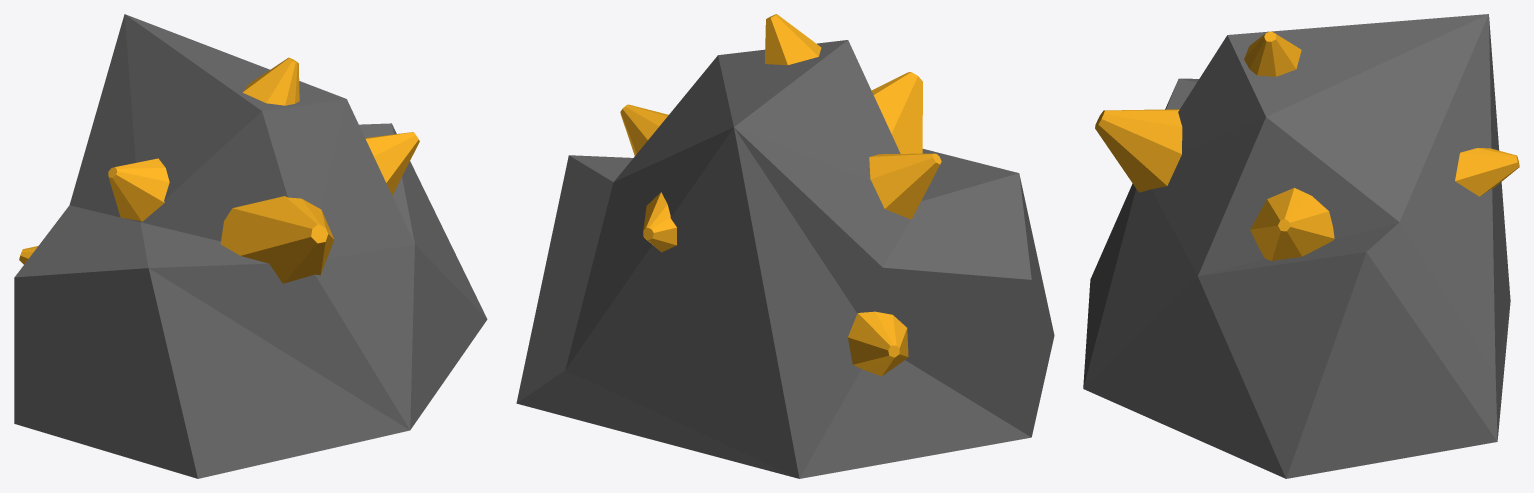
Rendered from Prop_Ore_Node_Yellow_03.fbx.
3 views of the same model, side by side, from view 1: azimuth 30°, elevation 25°; view 2: azimuth 150°, elevation 25°; view 3: azimuth 270°, elevation 25° (orthographic). The views are drawn at different scales.
Visible parts, largest first — view 1: Prop_Ore_Node_Yellow_03; view 2: Prop_Ore_Node_Yellow_03; view 3: Prop_Ore_Node_Yellow_03.
Part boxes in pixels (bbox=[...]): Prop_Ore_Node_Yellow_03: bbox=[14, 14, 487, 478]; Prop_Ore_Node_Yellow_03: bbox=[516, 14, 1054, 478]; Prop_Ore_Node_Yellow_03: bbox=[1083, 14, 1519, 478].
Bounding box in the file's own units: 1108 × 844 × 845.
